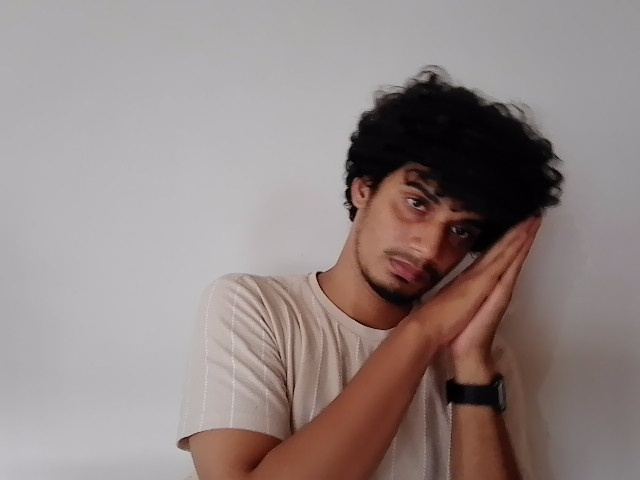sleep: (393, 207, 542, 353)
